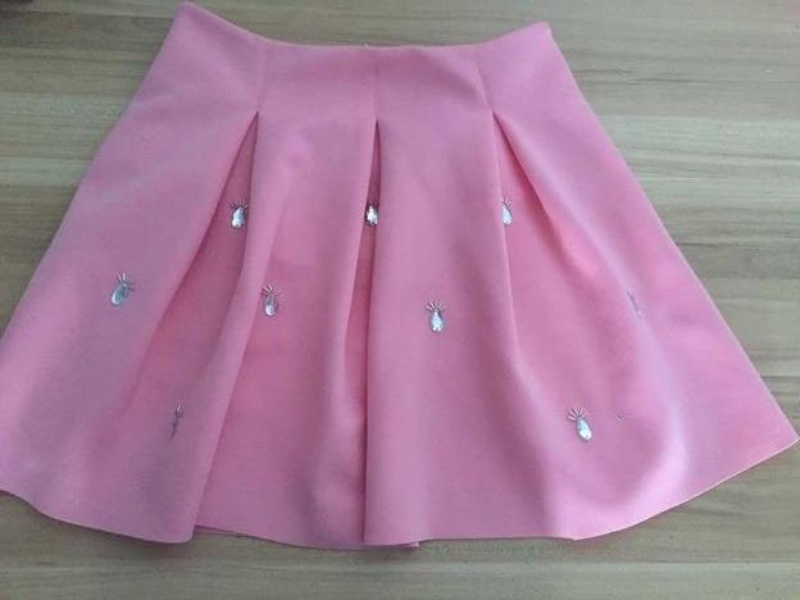skirt: (0, 1, 799, 554)
